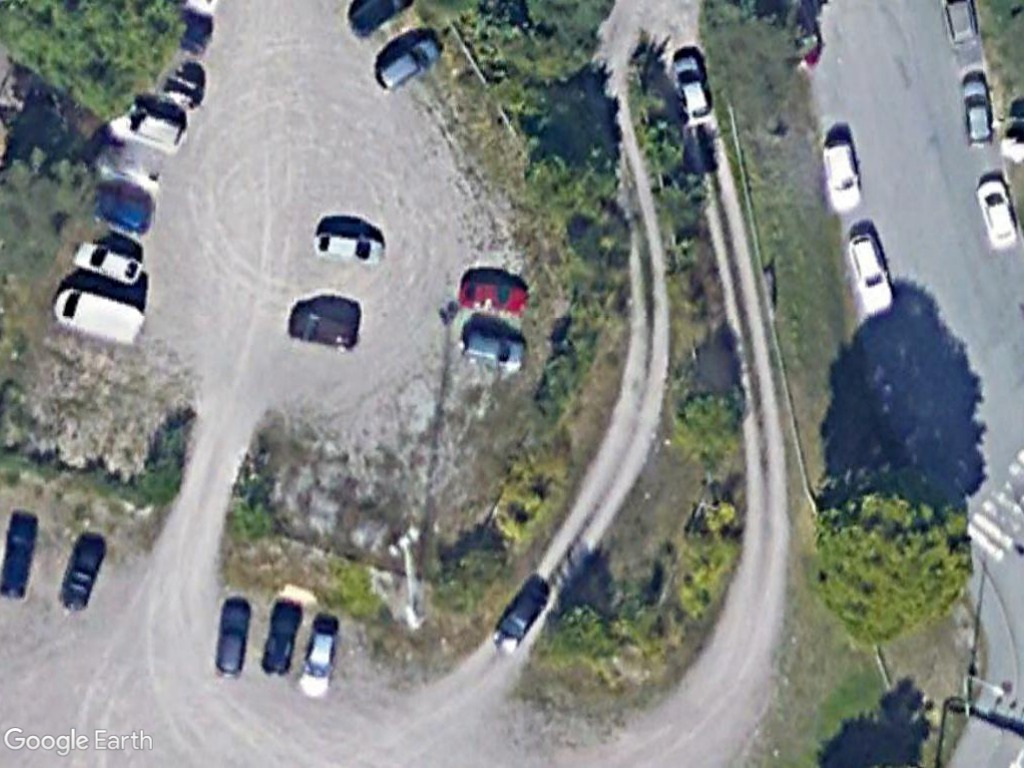car: (370, 24, 448, 97), (64, 230, 150, 290), (489, 578, 556, 654), (847, 222, 896, 320), (256, 593, 308, 683), (972, 171, 1022, 260), (668, 45, 718, 131), (821, 131, 867, 223), (298, 618, 347, 703), (309, 224, 394, 273), (207, 594, 253, 683), (286, 303, 361, 356), (453, 273, 533, 320), (458, 323, 532, 373), (958, 68, 999, 157)
van: (44, 280, 150, 353)
